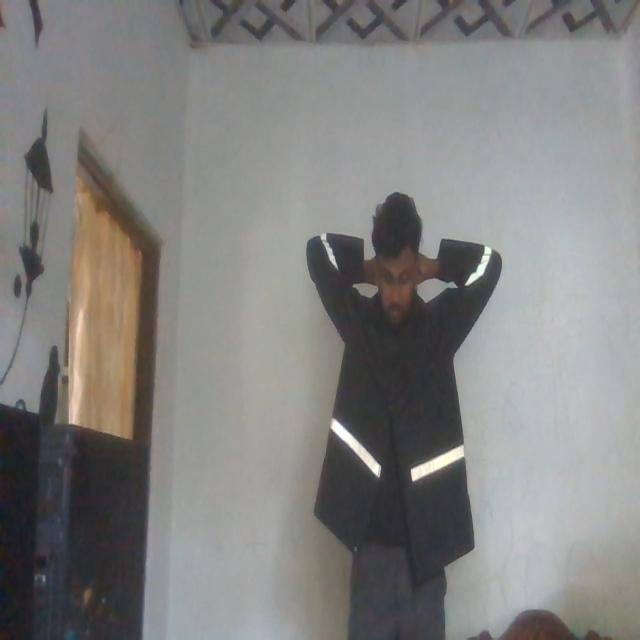Jacket_Wearer: (301, 217, 503, 578)
Person: (304, 174, 500, 640)
